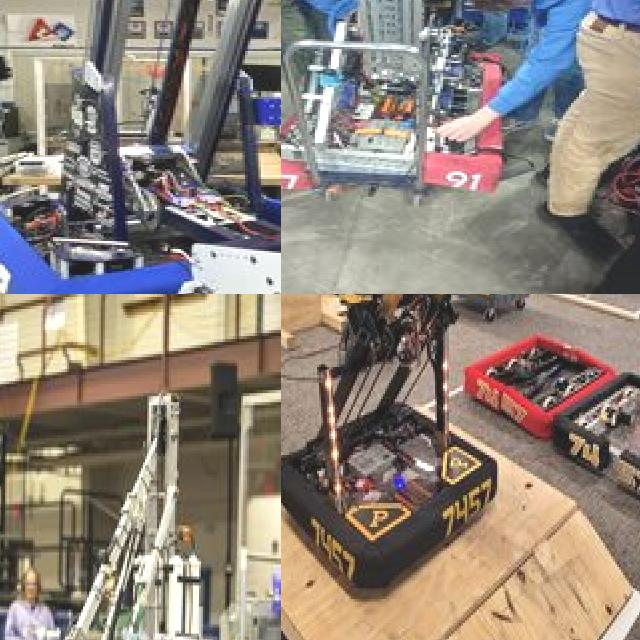FRC-Robots: (0, 0, 281, 294), (281, 294, 514, 560), (0, 417, 275, 640), (281, 0, 525, 239), (491, 298, 553, 442), (597, 361, 640, 537)
